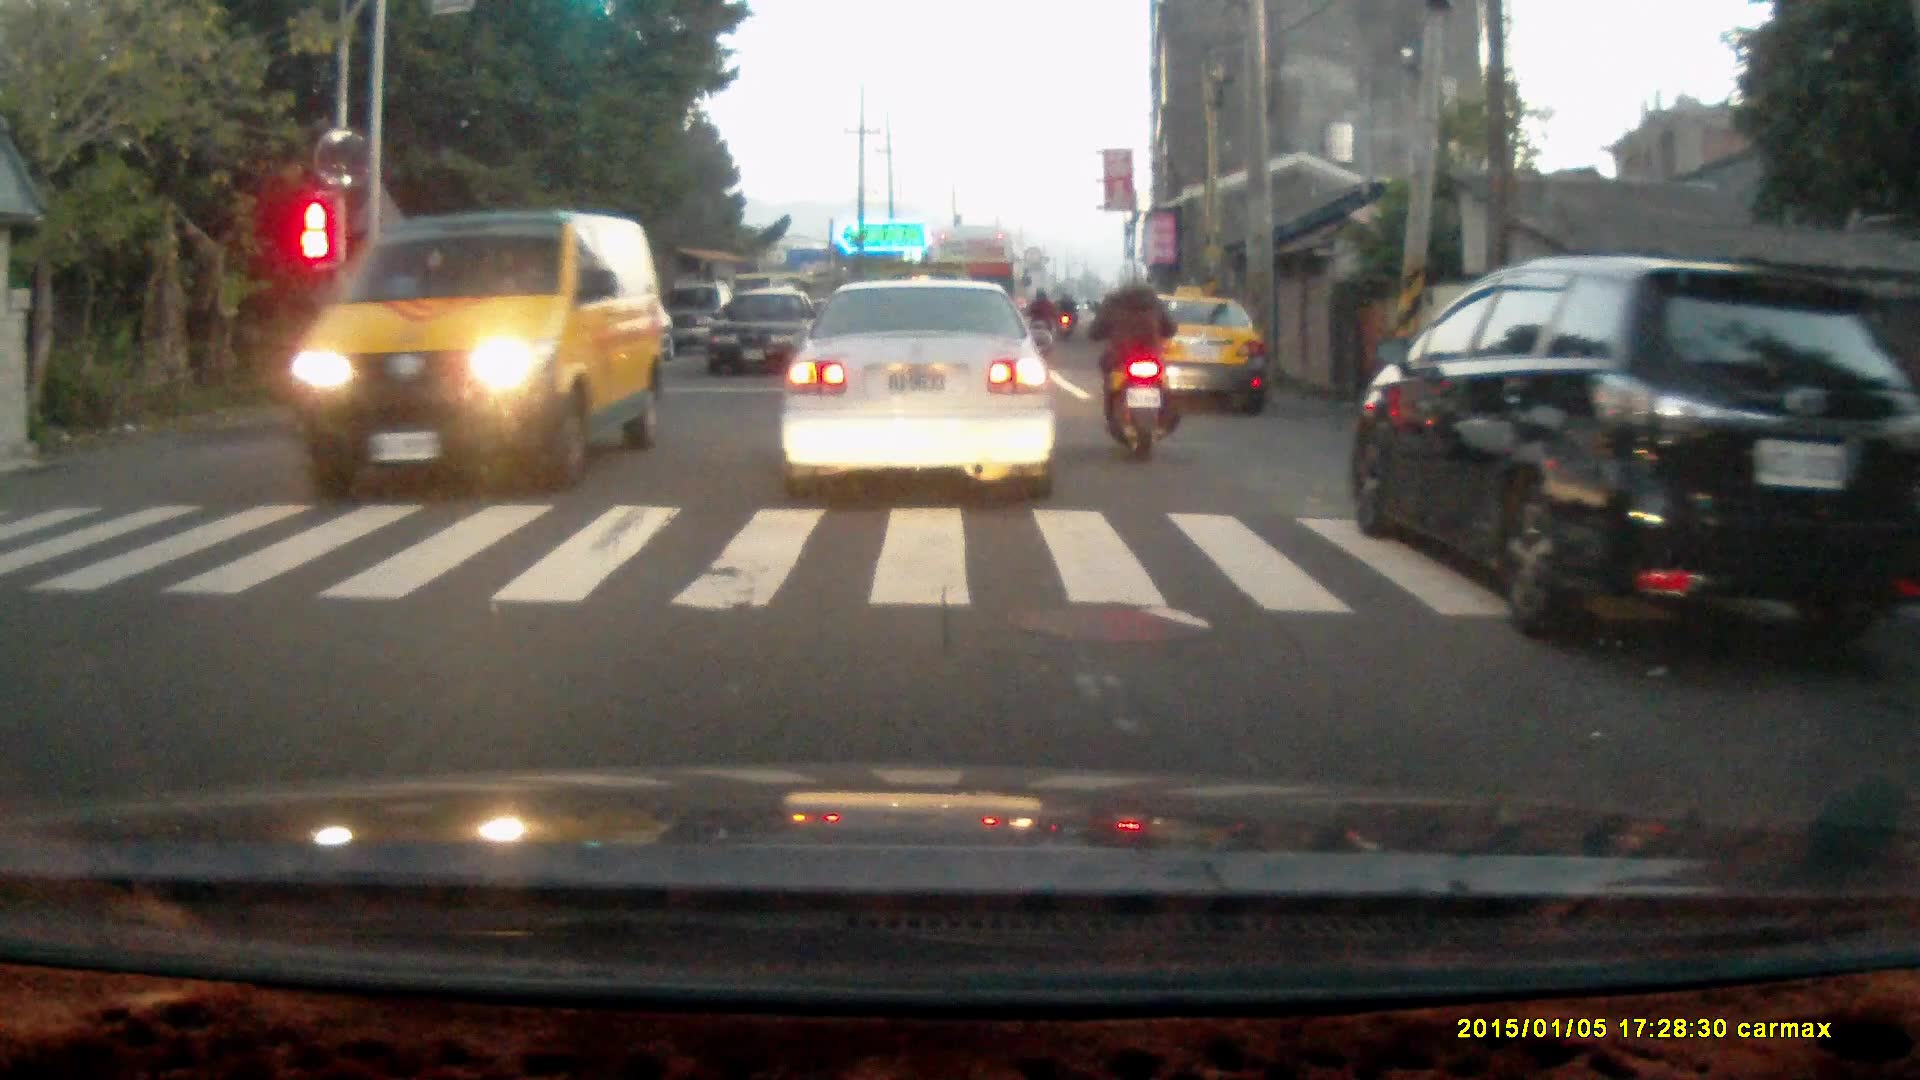rider: (1080, 255, 1175, 463)
vehicle: (1349, 249, 1914, 684), (299, 209, 665, 490), (780, 271, 1061, 500), (1111, 290, 1267, 418), (921, 222, 1021, 362), (708, 285, 821, 379)
